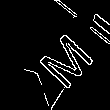M_NW: (24, 17, 91, 86)
